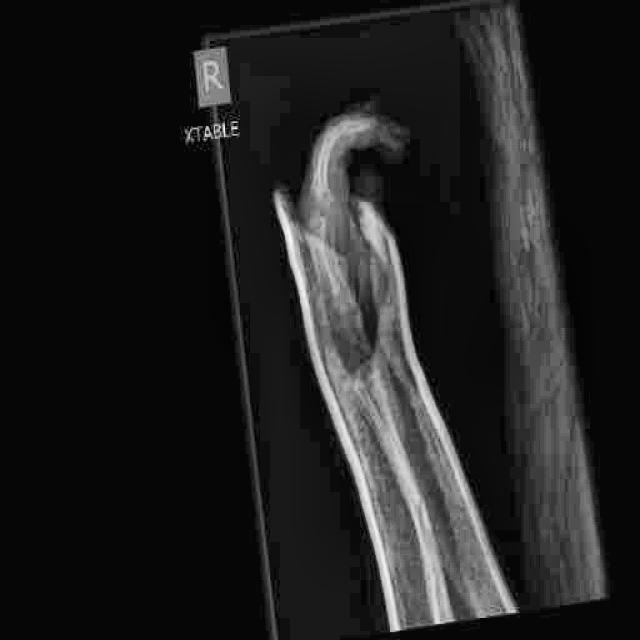forearm fracture: (403, 469, 466, 594)
